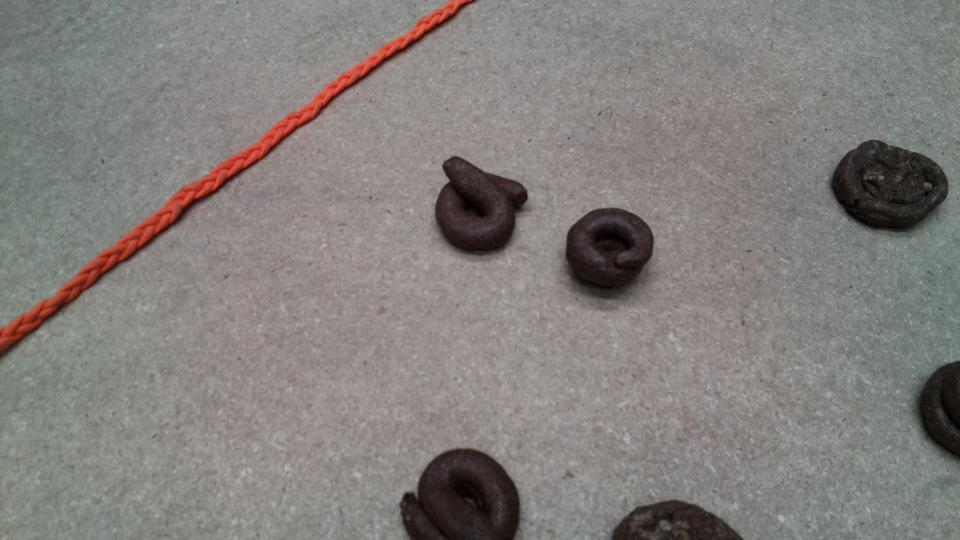poop: (396, 446, 525, 540), (829, 138, 951, 235), (431, 153, 530, 257), (559, 204, 658, 293), (605, 499, 751, 540), (915, 355, 960, 458)
rope: (1, 1, 452, 346)
